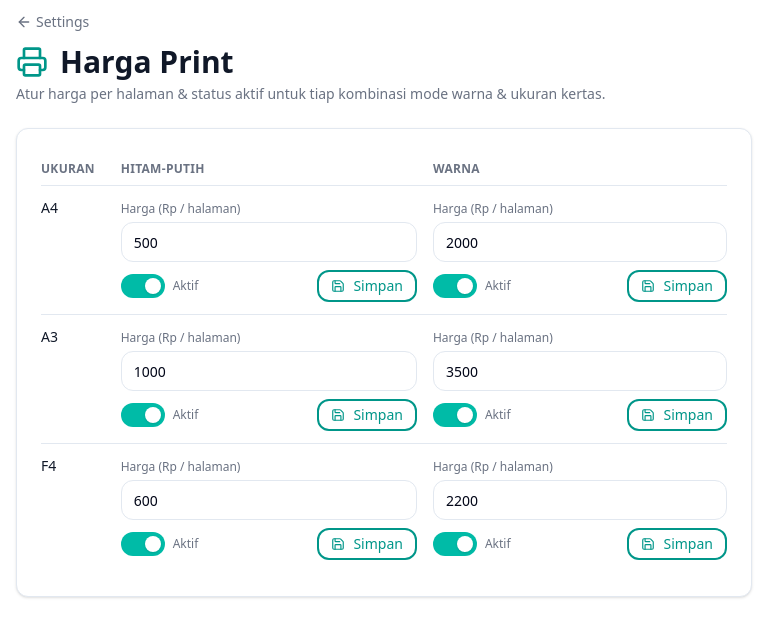
PrintPricingClient › AC-P23: a rejected save shows an inline error for that cell only, never a false Tersimpan
Click the button with aria-label "Simpan Hitam-Putih A4" at (367, 286), box [317,270,417,302]
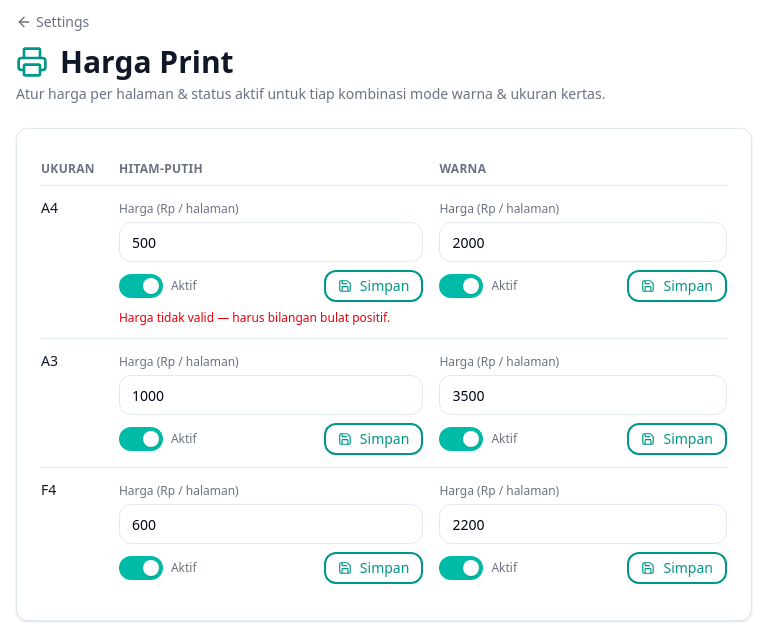
Check: the message reads "Harga tidak valid — harus bilangan bulat positif.", box [119,309,390,326]
